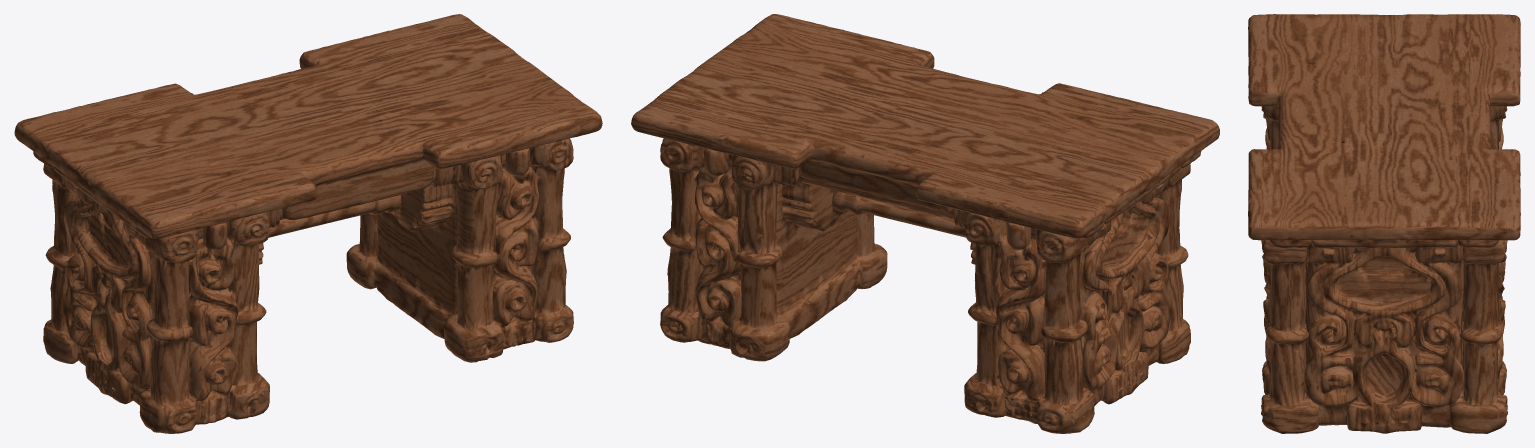
The model's file is Escritorio.fbx.
3 views of the same model, side by side, from view 1: azimuth 30°, elevation 25°; view 2: azimuth 150°, elevation 25°; view 3: azimuth 270°, elevation 25° (orthographic). The views are drawn at different scales.
Visible parts, largest first — view 1: Mesh1.0; view 2: Mesh1.0; view 3: Mesh1.0.
Boxes of the visible parts, left/top/right/bottom form: Mesh1.0: left=14, top=14, right=602, bottom=433; Mesh1.0: left=631, top=14, right=1219, bottom=433; Mesh1.0: left=1248, top=14, right=1520, bottom=433.
Size of the model in its own units: 190 by 92.21 by 103.
1 material, 1 textured.
